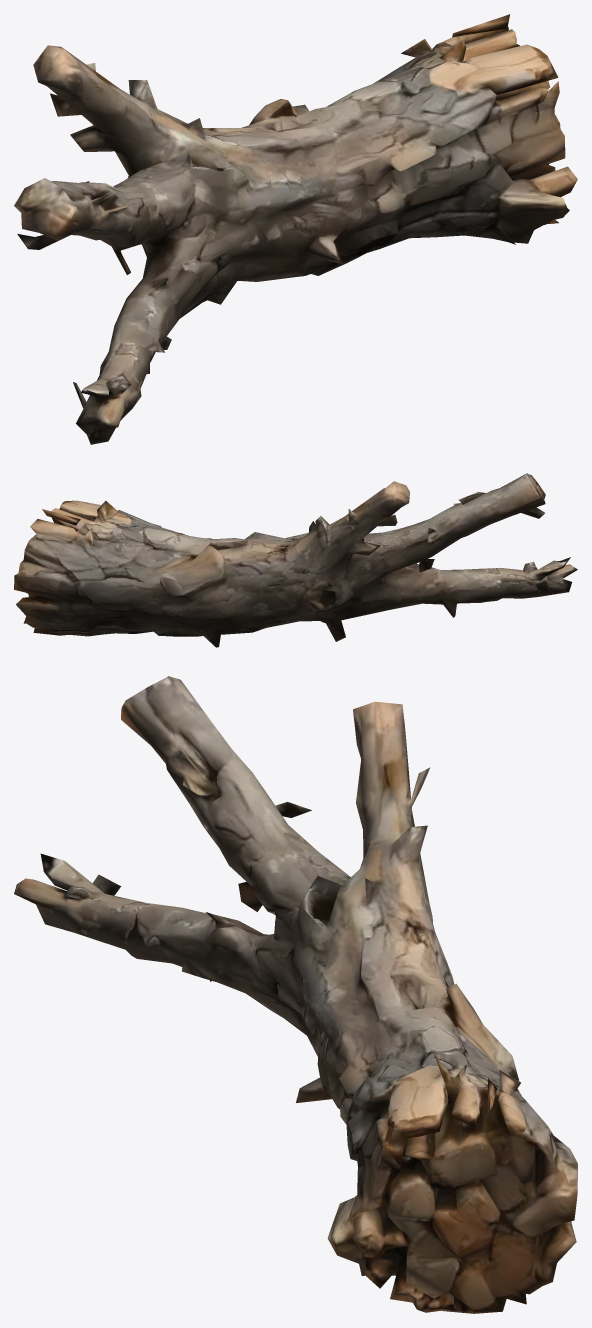
File: e_log.glb
3 views of the same model, one above another, from view 1: azimuth 30°, elevation 25°; view 2: azimuth 150°, elevation 25°; view 3: azimuth 270°, elevation 25° (orthographic). The views are drawn at different scales.
Visible parts, largest first — view 1: tripo_node_05cba653-c34f-4658-bed8-ba67d39ff604; view 2: tripo_node_05cba653-c34f-4658-bed8-ba67d39ff604; view 3: tripo_node_05cba653-c34f-4658-bed8-ba67d39ff604.
Part boxes in pixels (x1,y1,x2,y2): tripo_node_05cba653-c34f-4658-bed8-ba67d39ff604: (14,14,577,444); tripo_node_05cba653-c34f-4658-bed8-ba67d39ff604: (14,473,577,647); tripo_node_05cba653-c34f-4658-bed8-ba67d39ff604: (14,676,577,1313).
Size of the model in its own units: 1 by 0.4692 by 0.6893.
1 material, 1 textured.
